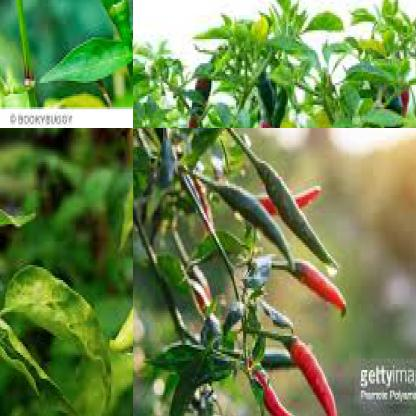Green Chilli: (250, 156, 342, 266), (214, 177, 298, 274), (107, 187, 132, 358), (377, 93, 409, 127), (270, 89, 295, 127), (253, 78, 274, 122)
